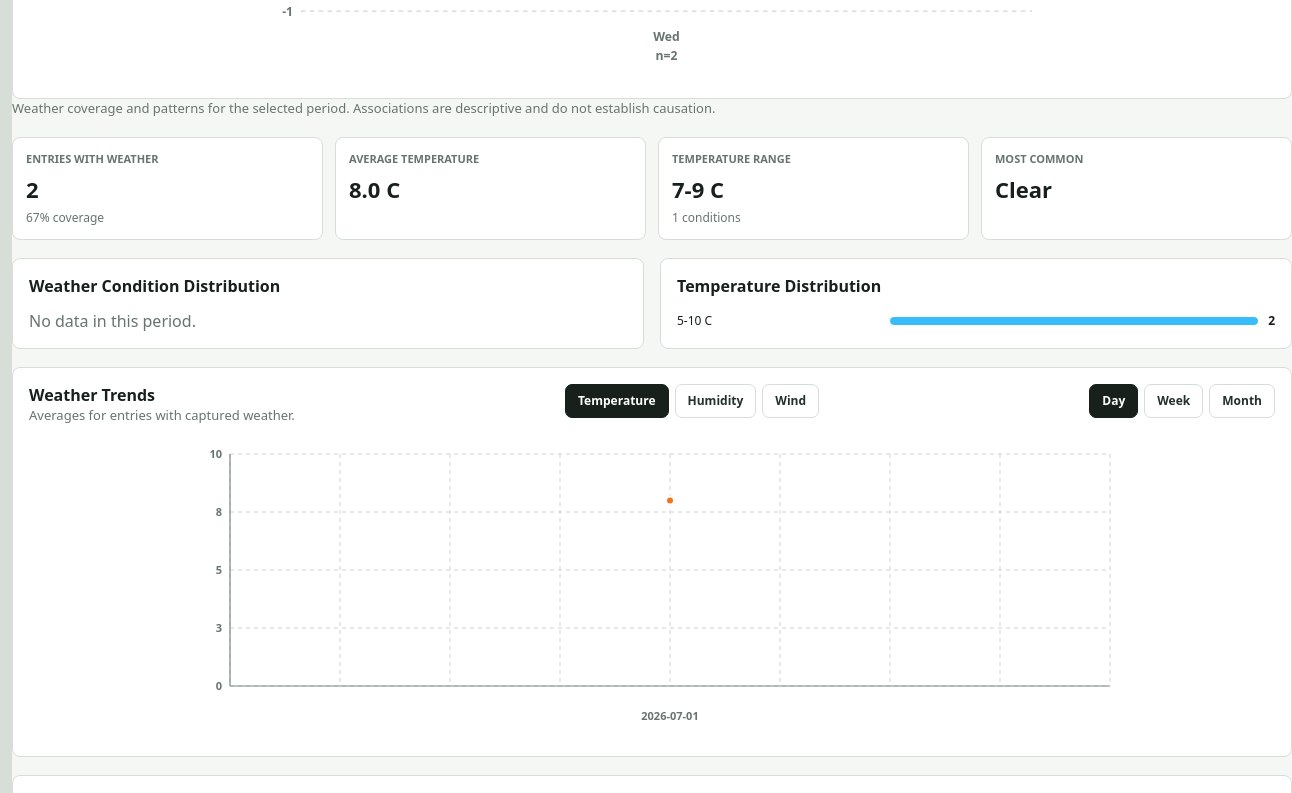
Test: ActivityTrends › shows mood sample counts and switches weather metrics
The image size is (1292, 793).
(page scrolled)
Expected: the text "Associations are descriptive and do not establish causation" is shown, [12,99,715,117]
Step 1. Click the tab "Humidity" → x=715, y=400, box [674,384,756,418]
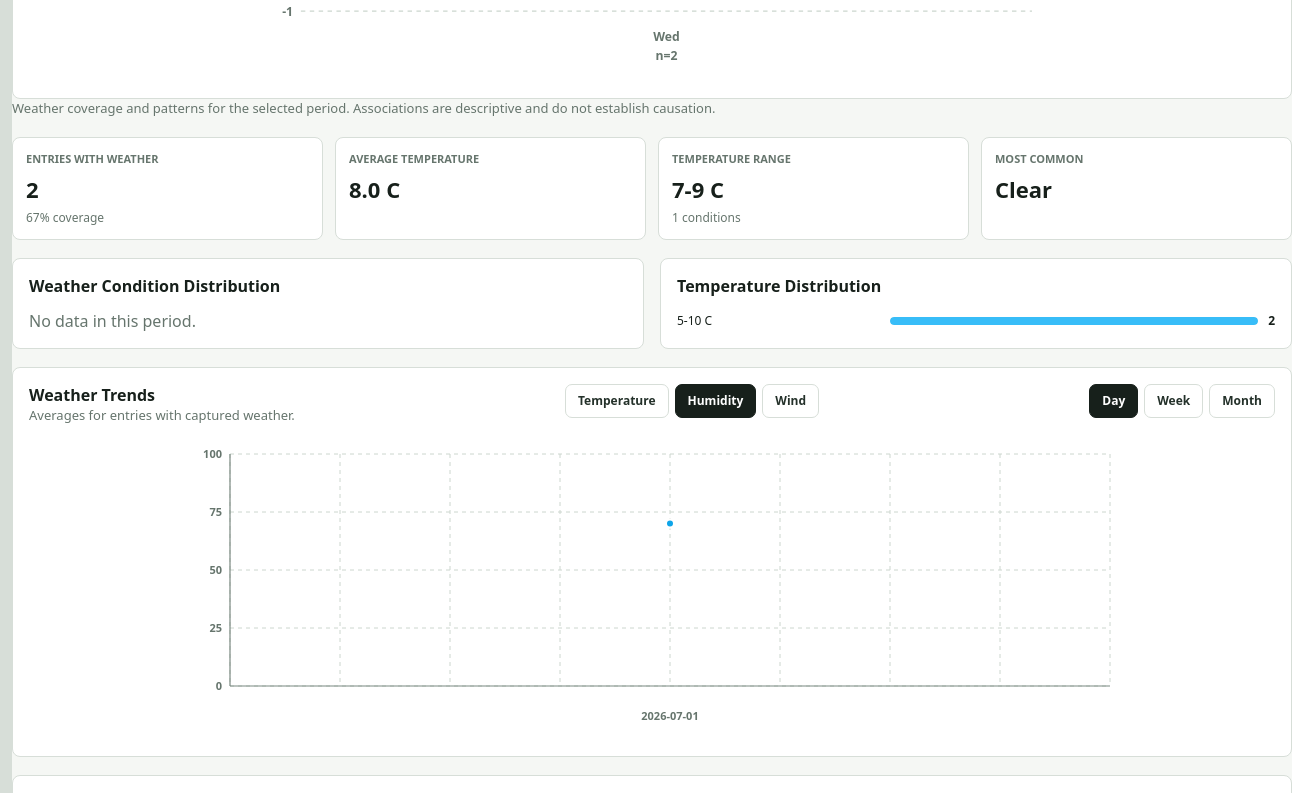
Now the picture named "humidity chart" is shown, box [29,438,1275,738]
